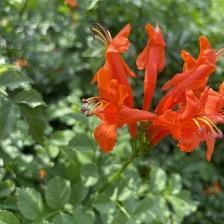honeysuckle: (146, 92, 224, 164), (158, 33, 224, 112), (80, 84, 139, 151), (87, 19, 136, 97), (137, 23, 172, 109), (80, 84, 81, 85)
